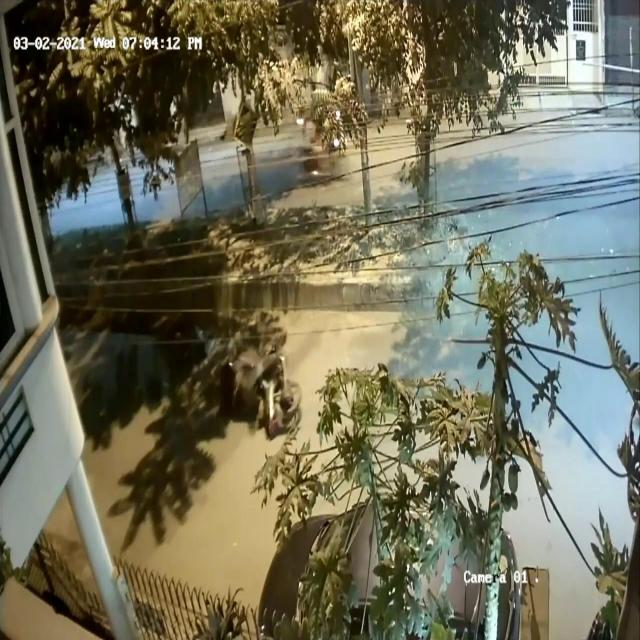accident: (151, 310, 307, 447)
